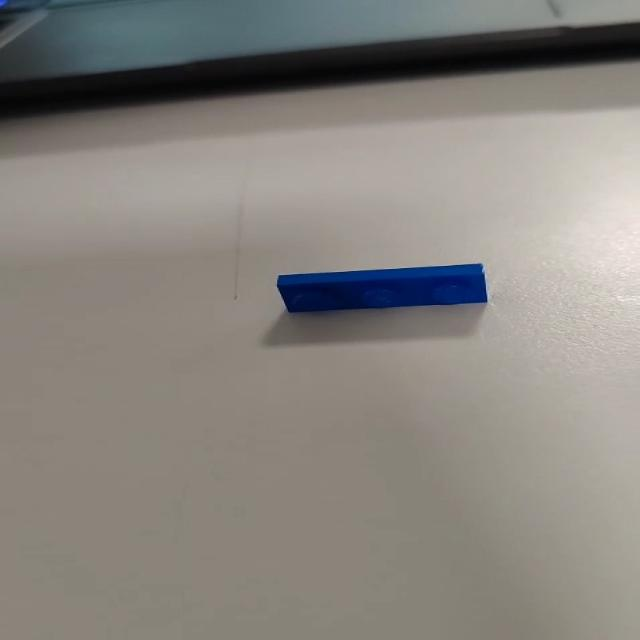C3x1x0: (272, 262, 490, 310)
